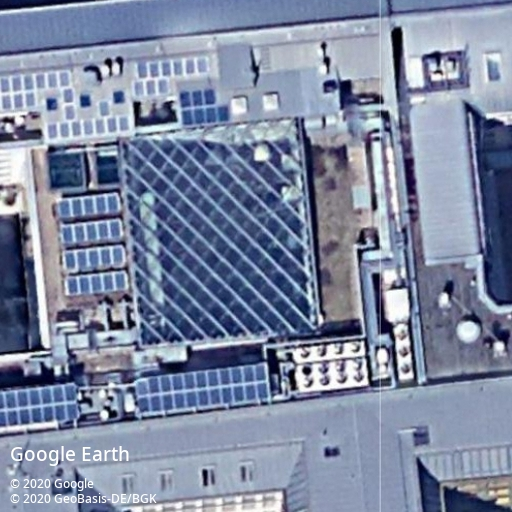Chiller: (294, 358, 370, 391), (293, 340, 366, 362), (394, 323, 413, 382)
